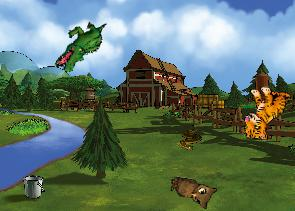crocodile: (53, 11, 108, 80)
owl: (167, 176, 217, 210)
tiger: (242, 84, 290, 141)
